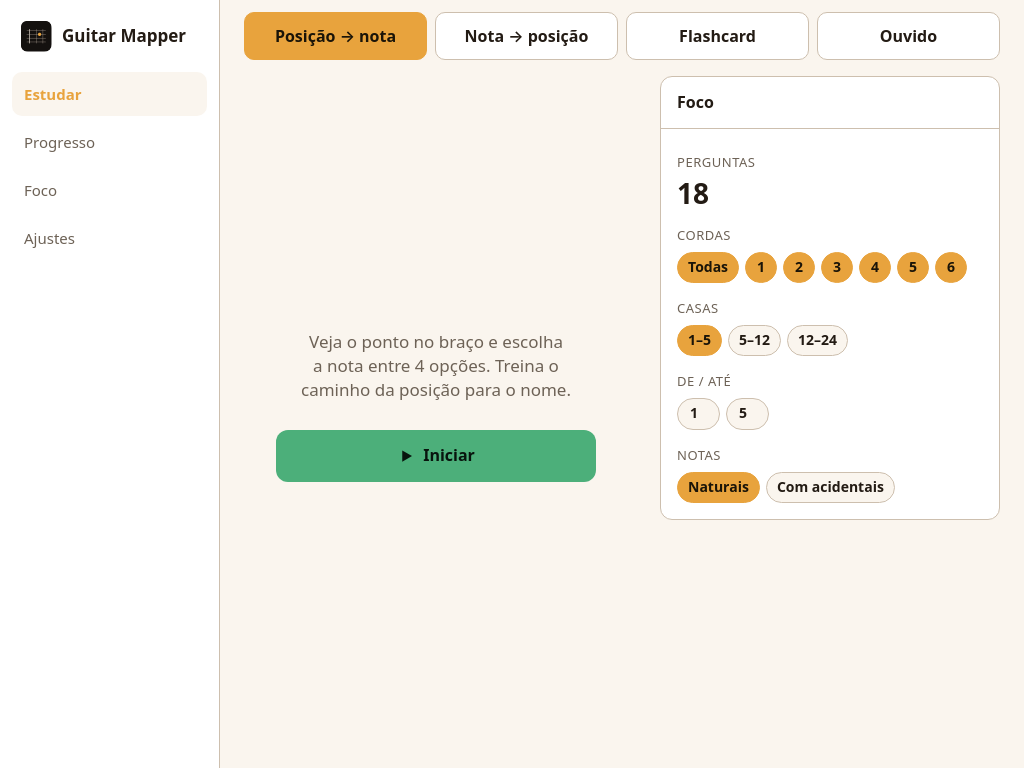
App › navigates between tabs
Click the button "Foco".
click(110, 190)  # box x1=12 y1=168 x2=207 y2=212
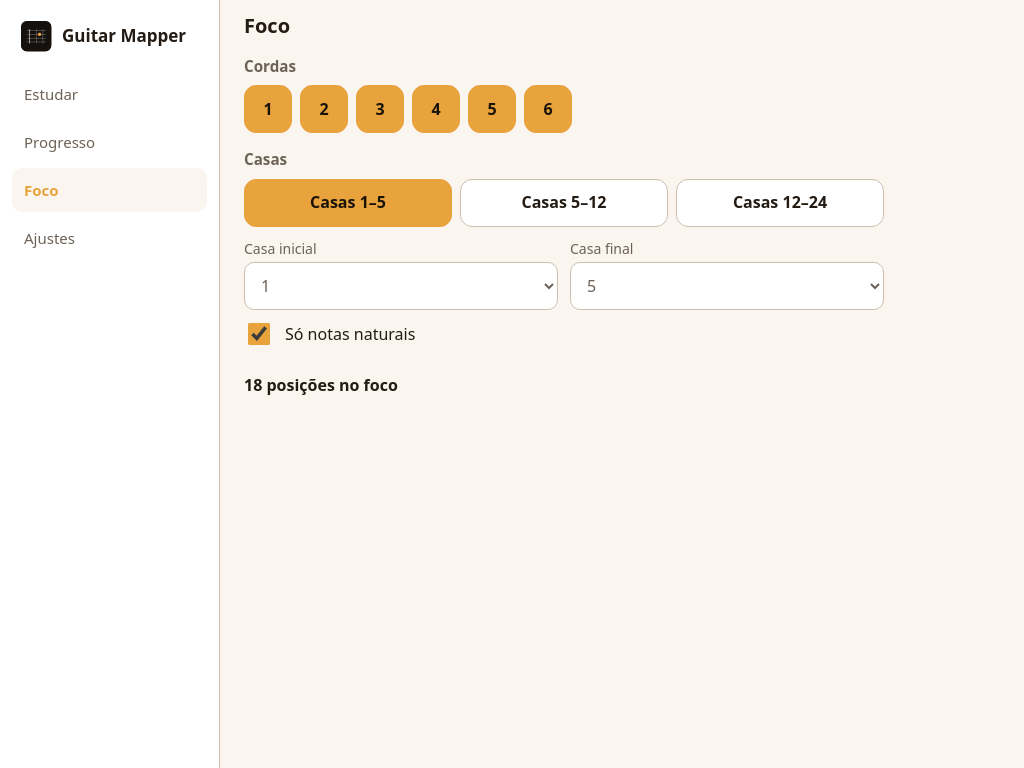
Check: the text "18 posições no foco" is shown, box x1=244 y1=374 x2=398 y2=396
Click the button "Progresso".
click(110, 142)  # box x1=12 y1=120 x2=207 y2=164
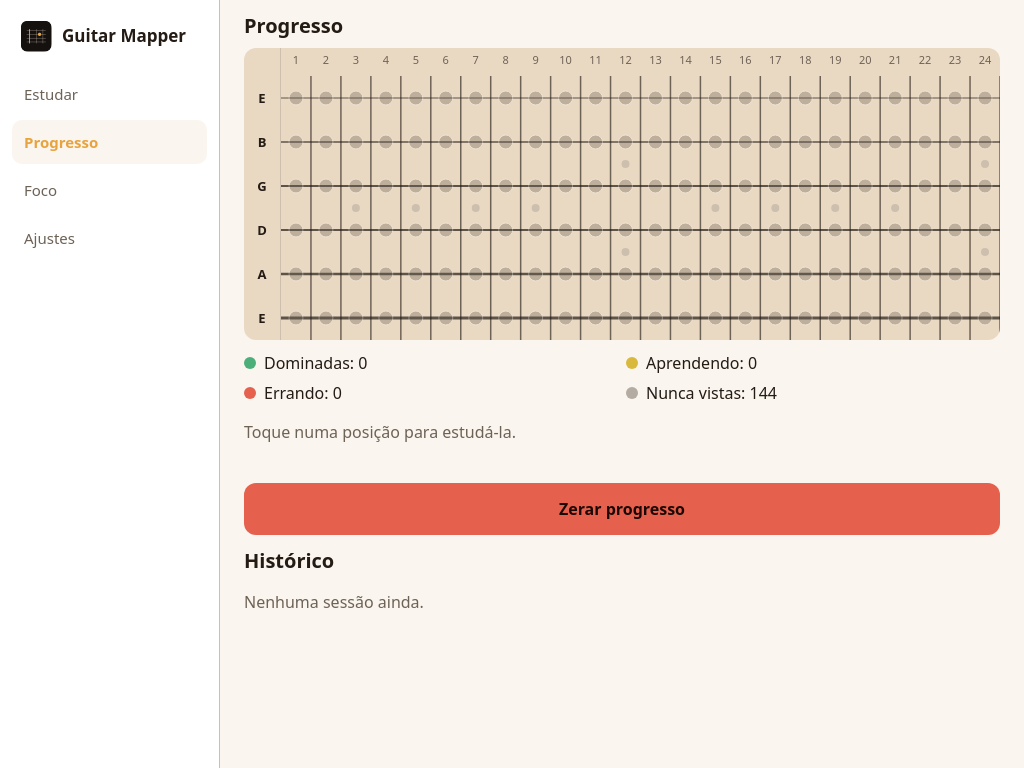
Check: the button "Zerar progresso" is shown, box x1=244 y1=483 x2=1000 y2=535
Click the button "Ajustes".
click(110, 238)  # box x1=12 y1=216 x2=207 y2=260
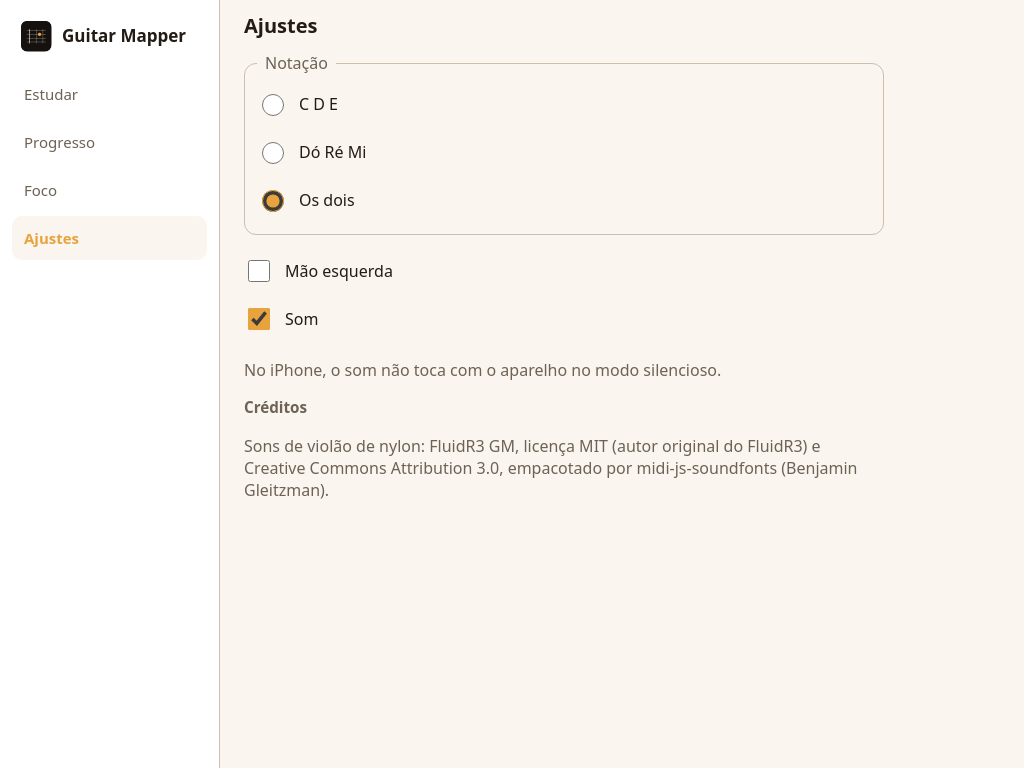
Check: the checkbox labelled "Mão esquerda" is shown, box x1=248 y1=260 x2=270 y2=282
